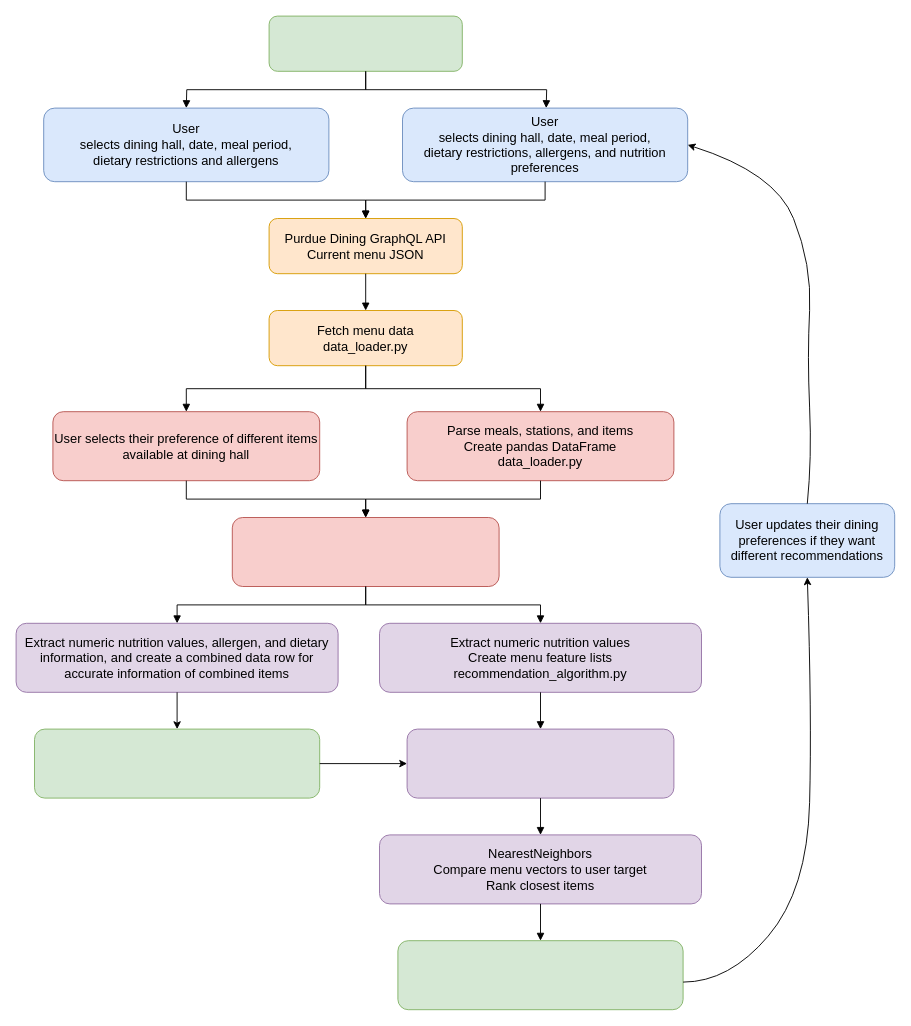
Some shapes in this 911 by 1026 pixel diagram are drawn without their labels. The centre of each missing label's shape, as x and y in pixels:
"Data is added to a custom meals CSV to be used to recommend items in the future" belongs at (x=177, y=763).
"Filter dietary restrictions and allergens data_filterer.py" belongs at (x=365, y=551).
"StandardScaler Scale menu features and user target" belongs at (x=540, y=763).
"Streamlit Interface app.py" belongs at (x=365, y=43).
"Streamlit Results Recommended menu items Nutrition details and explanations" belongs at (x=540, y=975).
